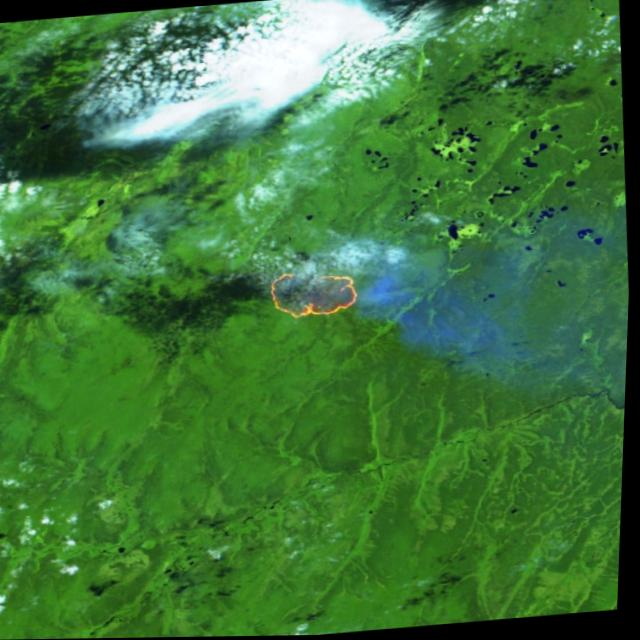fire: (257, 252, 376, 325)
